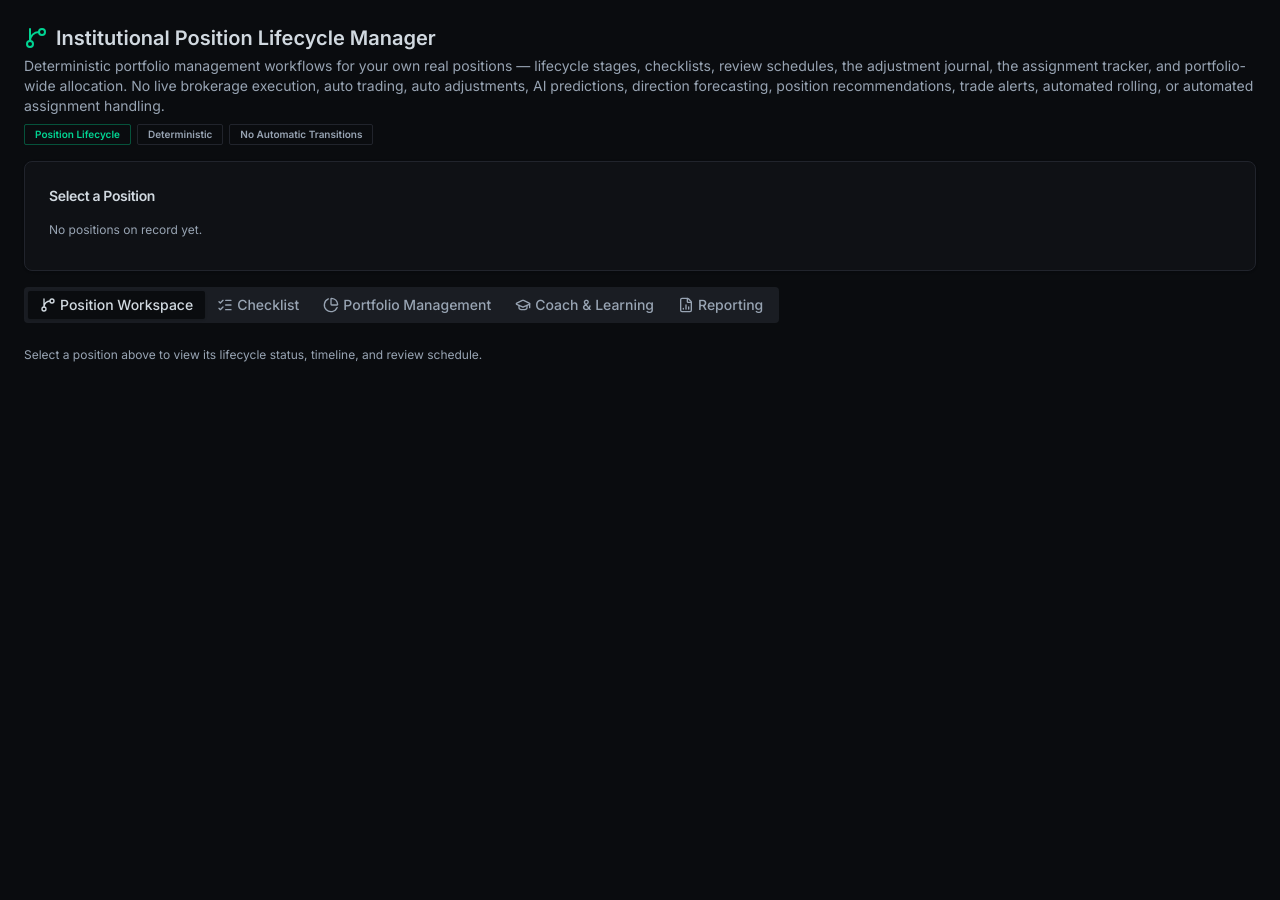
Test: OptionsLifecycleManager › Portfolio Management honestly reports empty allocations for a brand-new user — position concentration, strategy/sector allocation, expiration ladder, income all
Click the tab with test id "tab-olm-portfolio" at (407, 305), box left=311, top=291, right=503, bottom=319
(page scrolled)
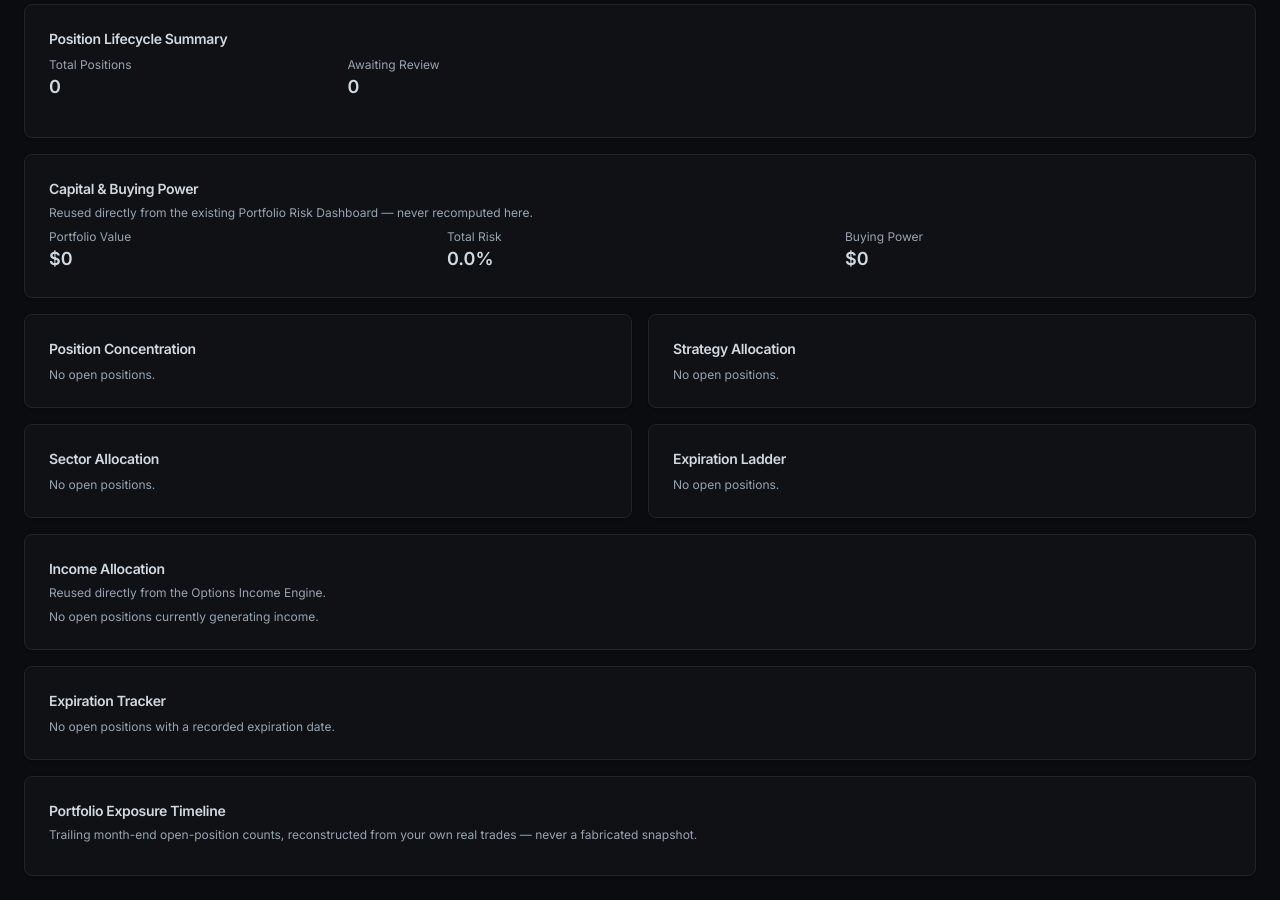
Check: the text with test id "lifecycle-summary-total" reads "0", box left=49, top=76, right=61, bottom=97
Check: the text with test id "position-concentration-empty" is shown, box left=49, top=367, right=155, bottom=382
Check: the text "No open positions currently generating income." is shown, box left=49, top=609, right=319, bottom=624
